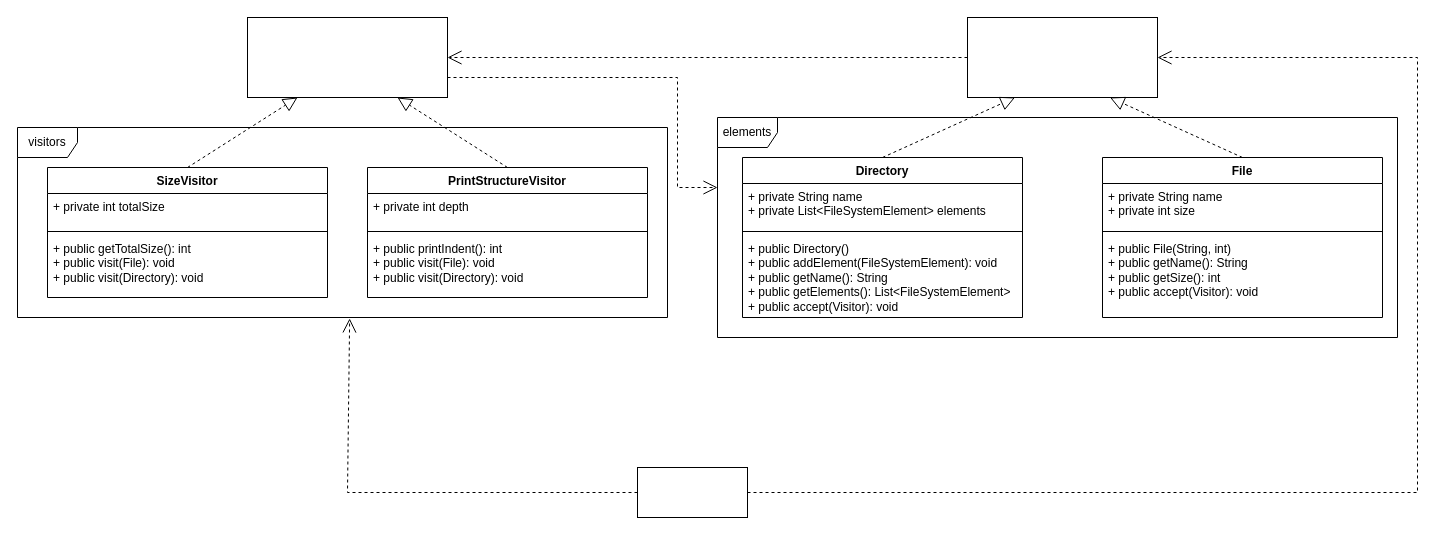
Some shapes in this 1449 by 535 pixel diagram are drawn without their labels. The centre of each missing label's shape, as x and y in pixels:
<<Interface>> FileSystemElement + accept(Visitor): void: (1062,57)
<<Interface>> Visitor + visit(Directory): void + visit(File): void: (347,57)
Application: (692,492)
